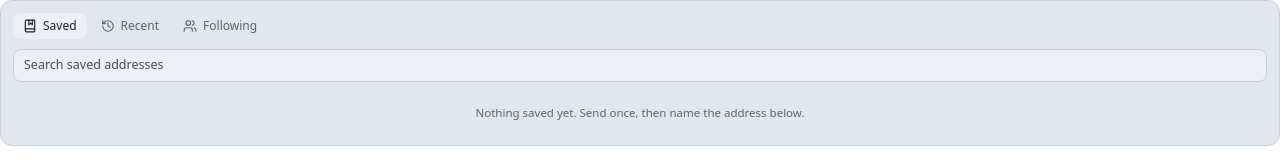
Test: empty and filtered states › explains itself before any withdrawal has been made
Click the button "Recent". click: (130, 26)
box: x1=91 y1=13 x2=169 y2=39
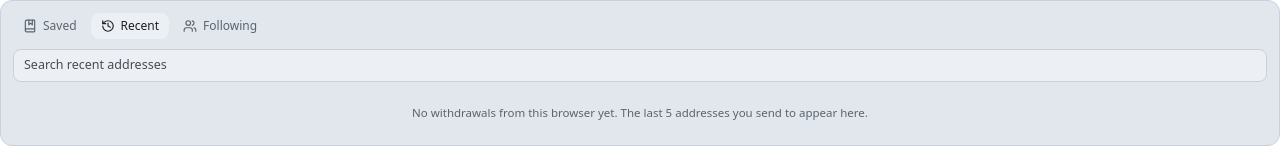
Check: the text "No withdrawals from this browser yet" is shown, box x1=412 y1=105 x2=868 y2=120
